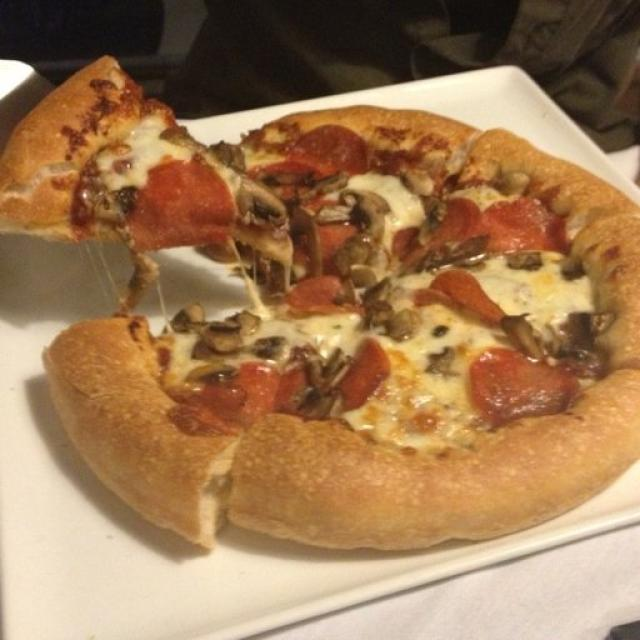Mushrooms: (259, 336, 338, 414), (183, 316, 285, 352), (558, 313, 606, 372), (405, 238, 486, 272), (78, 185, 142, 225), (367, 287, 415, 339), (338, 189, 389, 236), (230, 243, 282, 285), (294, 211, 323, 271), (240, 192, 277, 234), (504, 314, 541, 355), (342, 243, 377, 283), (422, 194, 446, 234), (429, 352, 458, 376), (558, 256, 585, 281), (194, 370, 238, 382), (509, 253, 542, 269)
Pepperoni: (148, 159, 233, 245), (461, 362, 571, 422), (191, 366, 282, 424), (480, 202, 571, 258), (419, 274, 503, 323), (297, 121, 361, 171), (345, 337, 392, 403), (414, 207, 475, 254), (295, 277, 353, 303), (326, 226, 339, 256)
Pizza: (0, 58, 640, 551)
